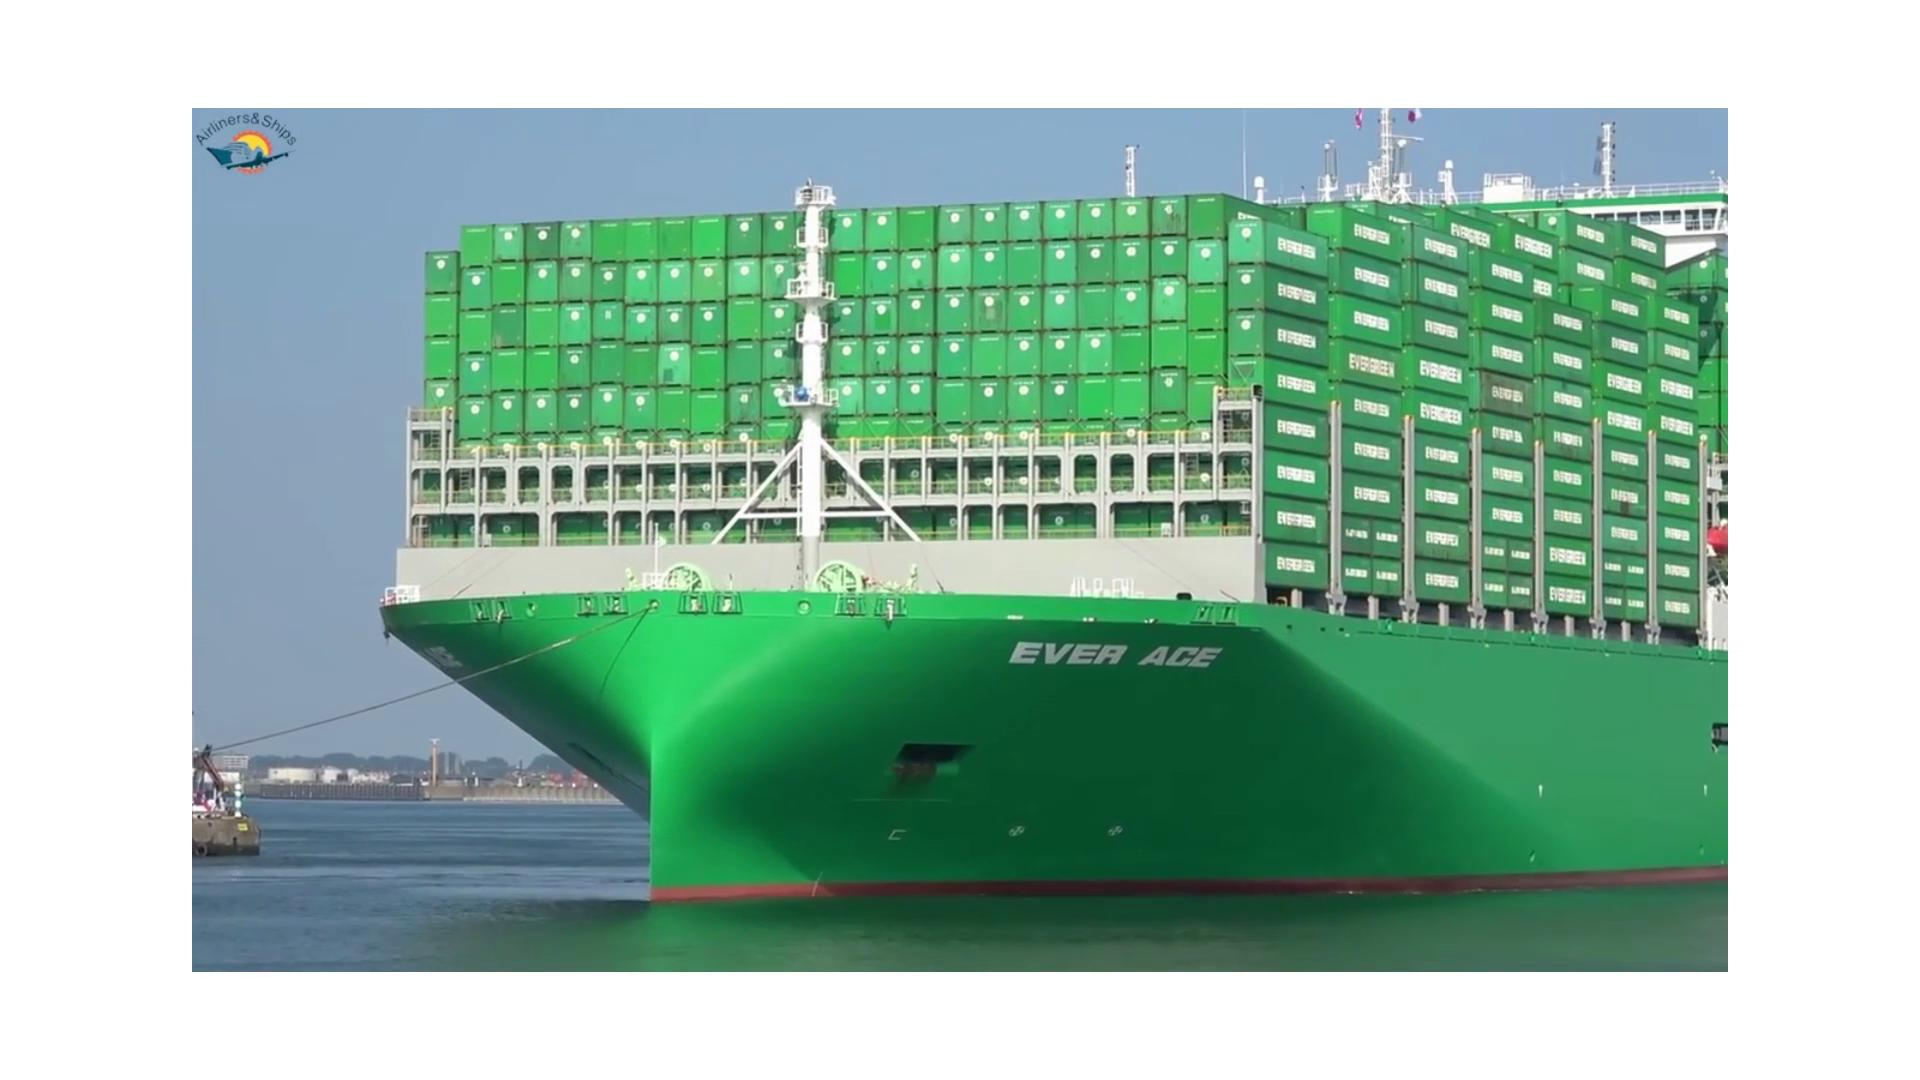OCR: (1000, 618, 1242, 707)
